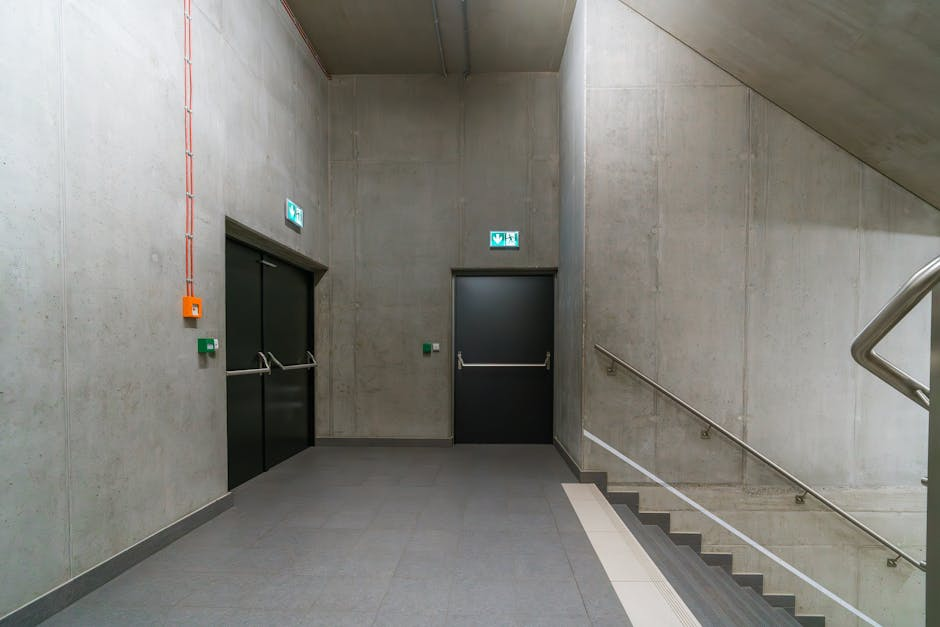emergency_exit: (489, 229, 520, 250), (285, 198, 304, 229)
